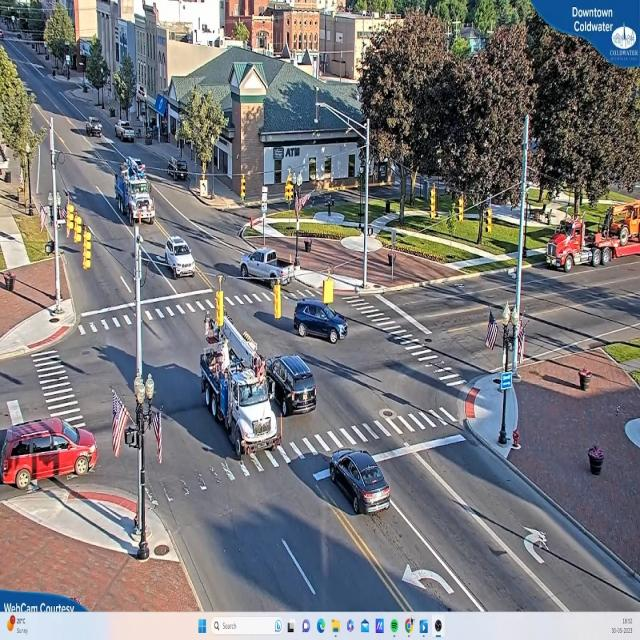car: (1, 418, 100, 493), (328, 451, 393, 516), (268, 354, 318, 418), (293, 300, 347, 342), (237, 250, 292, 282), (162, 233, 195, 280), (118, 124, 137, 143)
truck: (200, 298, 275, 477), (113, 157, 156, 241)
